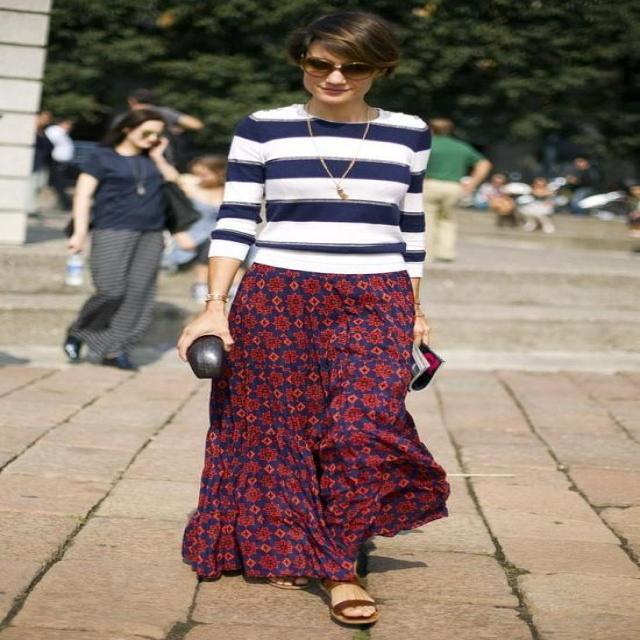Tshirt: (207, 103, 430, 277)
skirt: (180, 262, 448, 583)
